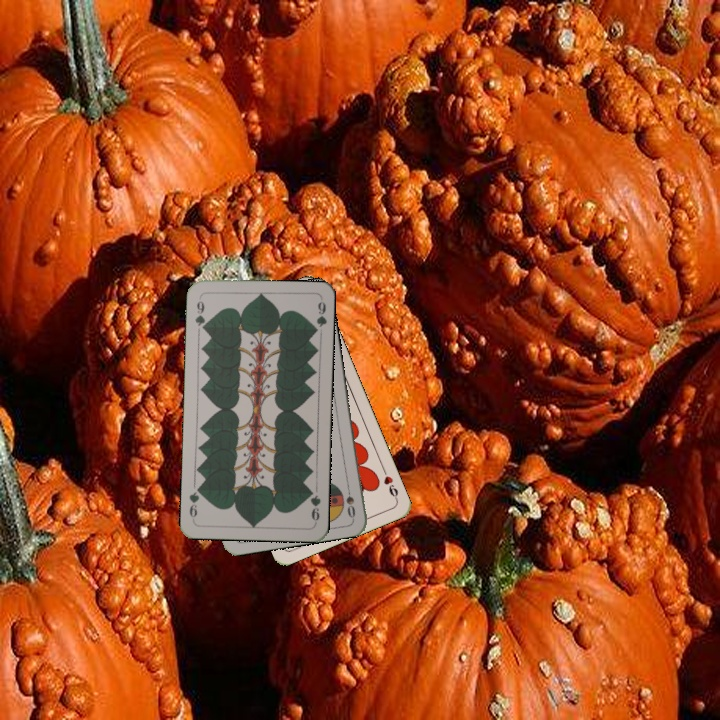G9: (305, 485, 323, 526), (191, 293, 208, 334)
H9: (378, 464, 401, 503)
SO: (342, 480, 358, 520)
